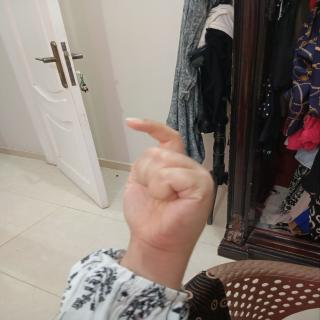RAA: (111, 110, 220, 266)
